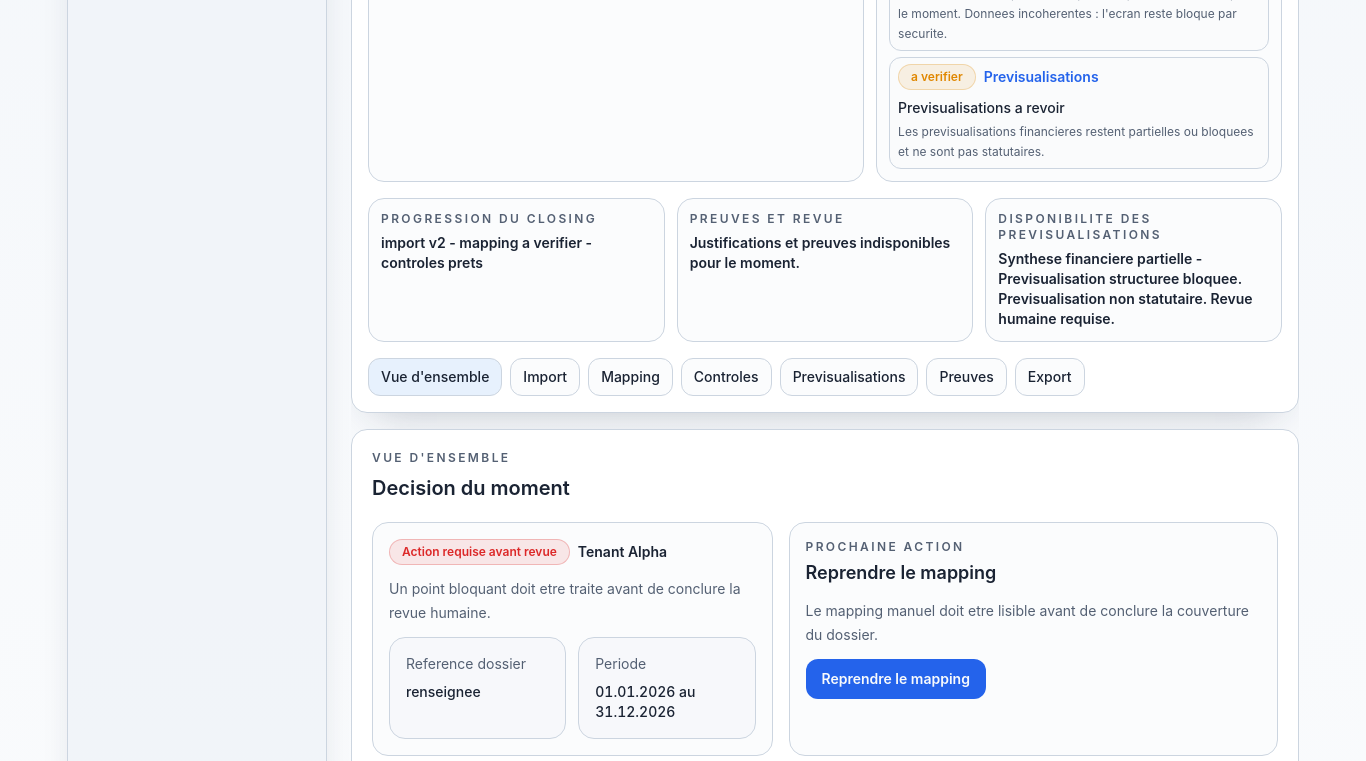
Test: router manual mapping › keeps the cockpit and workspace navigation usable when the mapping block fails
The width and height of the screenshot is (1366, 761).
(page scrolled)
Click the tab "Mapping": (630, 377) [588,358,673,396]
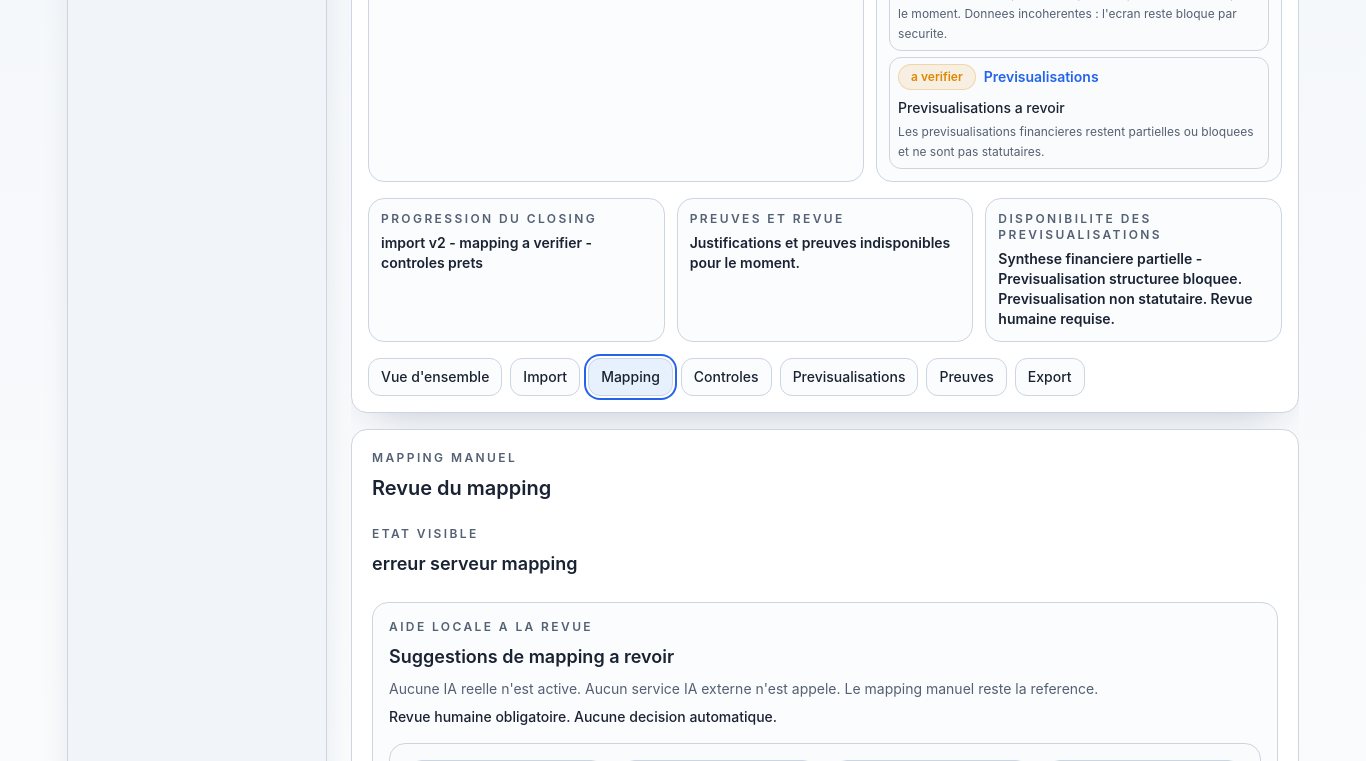
Expected: the tab "Controles" is shown, [681,358,772,396]
Result: the text "erreur serveur mapping" is shown at [372,553,578,574]
Click the tab "Import": (545, 377) [510,358,580,396]
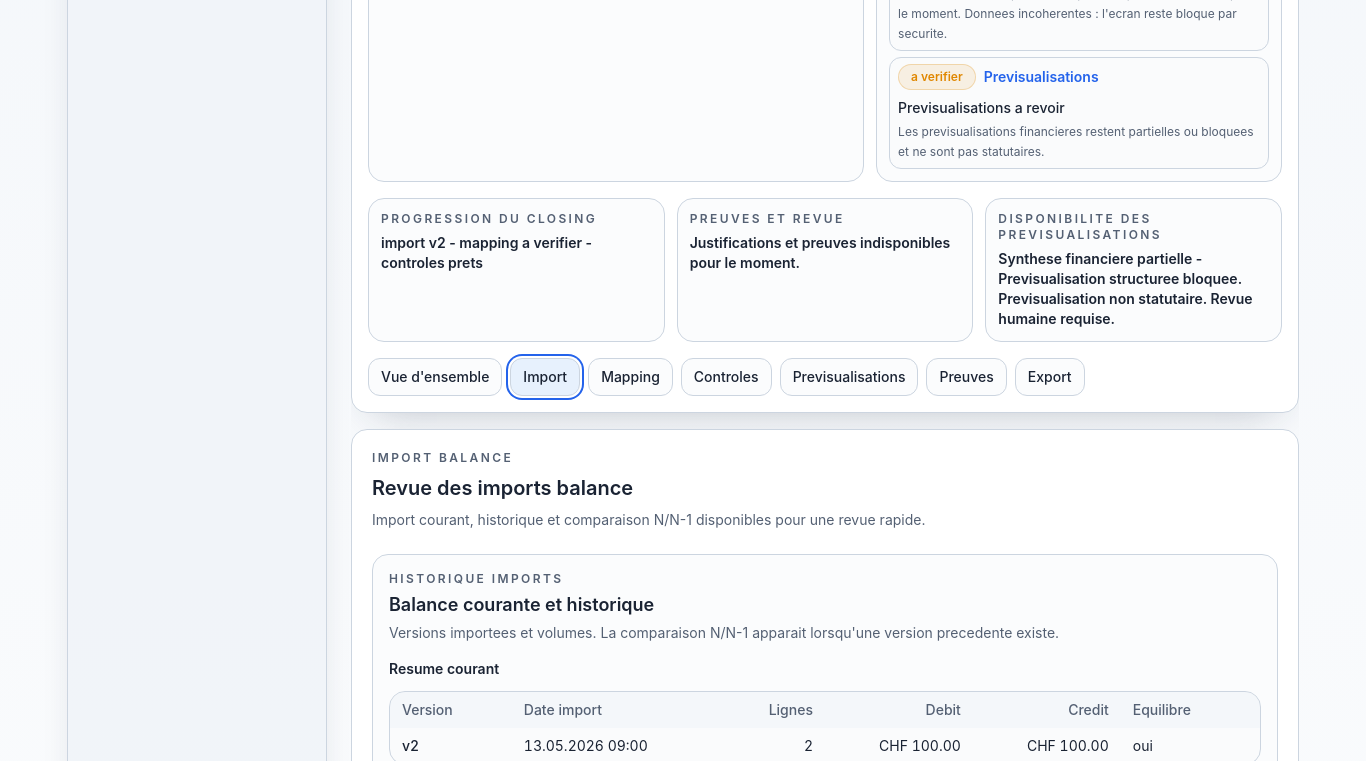
Click the tab "Controles": (726, 377) [681,358,772,396]
(page scrolled)
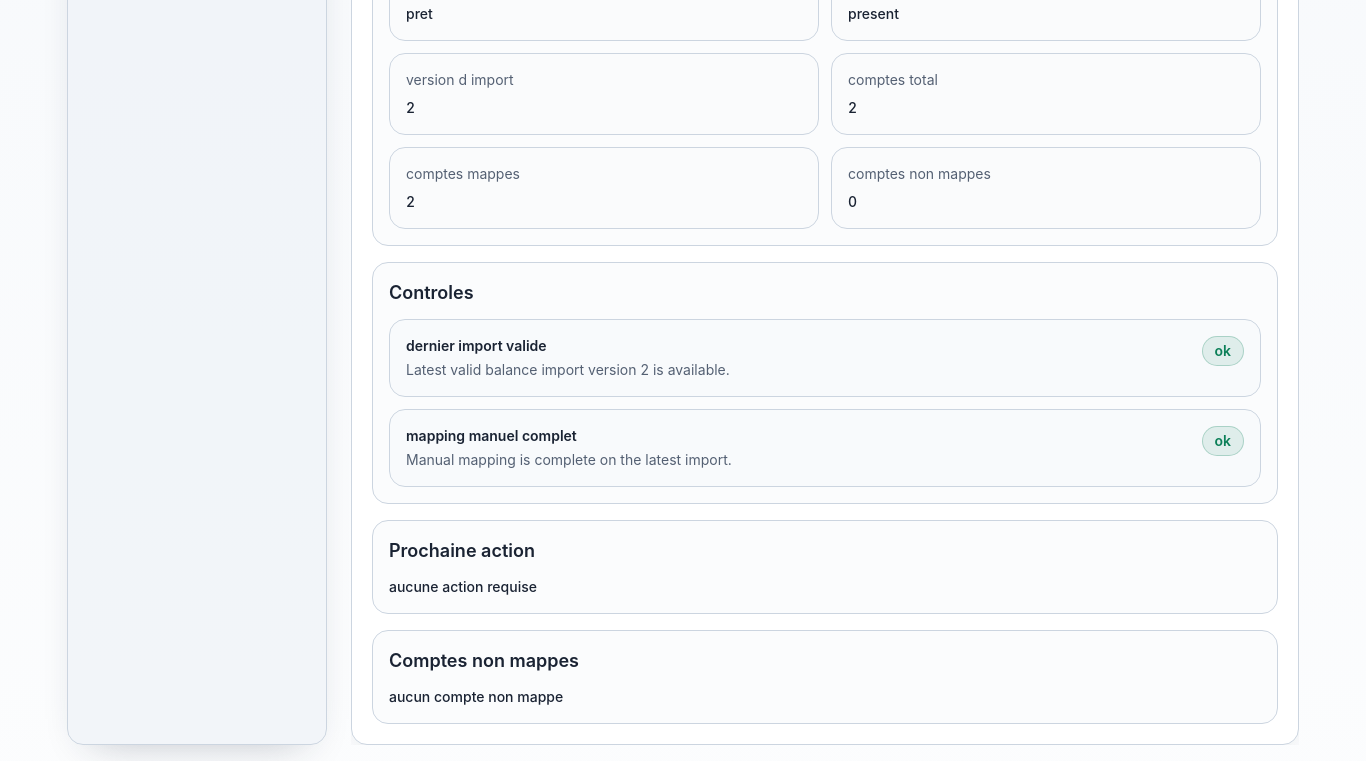
Result: the text "aucune action requise" is shown at [389,578,537,595]
